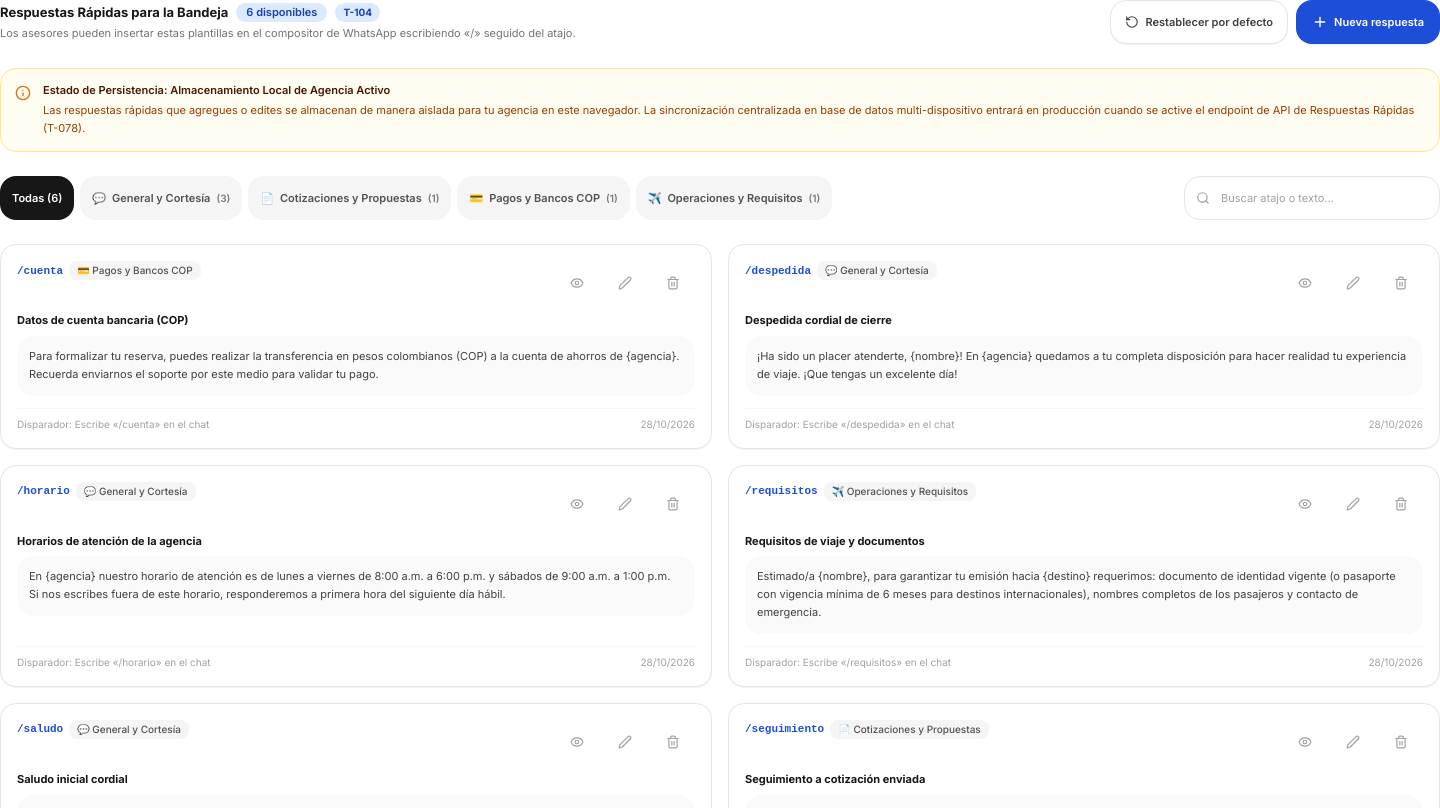
Test case: BloqueRespuestasRapidas — Administración por Agencia (T-104) › 6. Abre modal de creación, agrega variable con botón y guarda una nueva respuesta
Click the button "Nueva respuesta" at (1368, 22), box [1296,0,1439,44]
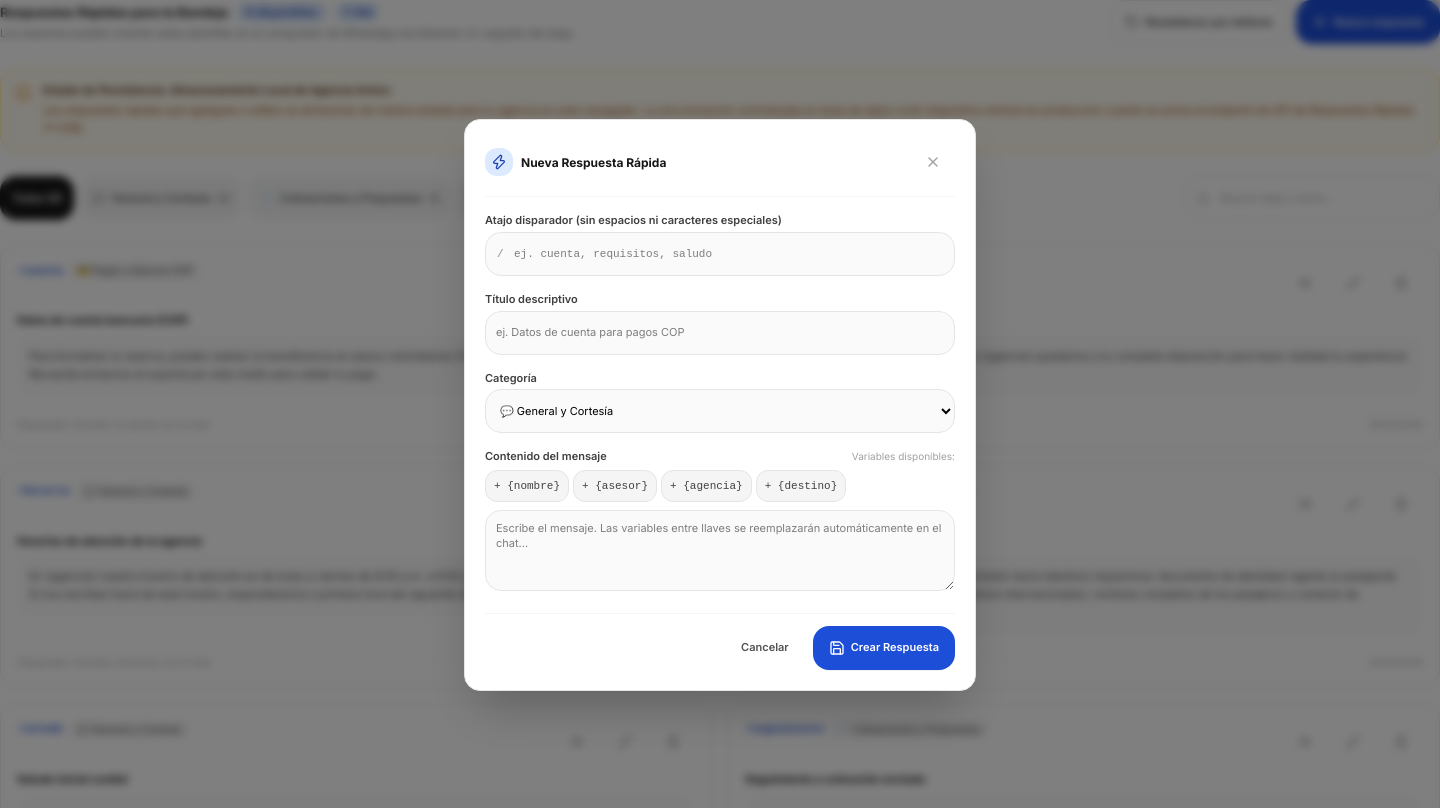
Now the heading "Nueva Respuesta Rápida" is shown, box [521,154,666,171]
Type "bienvenida" into the field with placeholder "ej. cuenta, requisitos, saludo" at (720, 254), box [485,232,955,276]
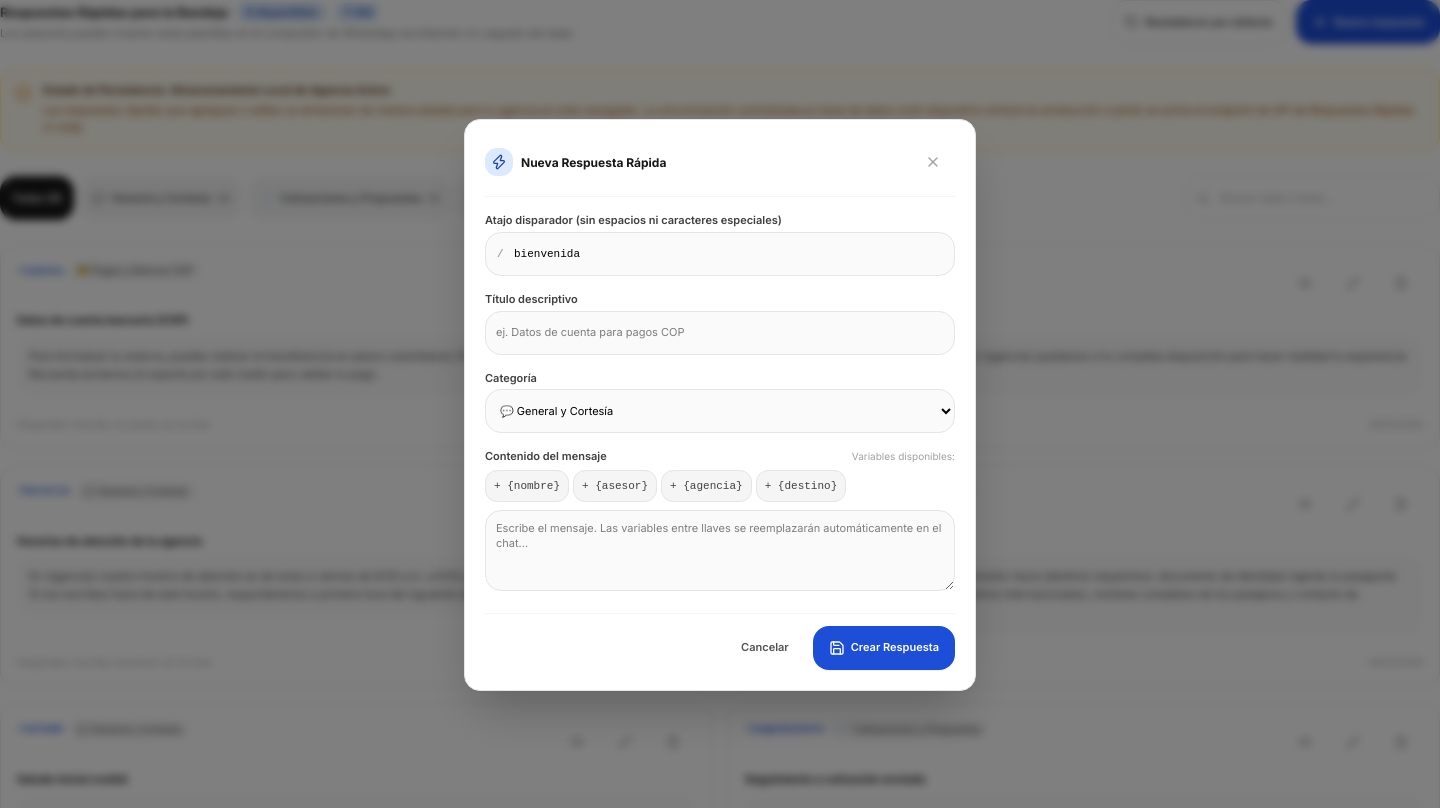
Type "Mensaje de Bienvenida" into the field with placeholder "ej. Datos de cuenta para pagos COP" at (720, 332), box [485,310,955,354]
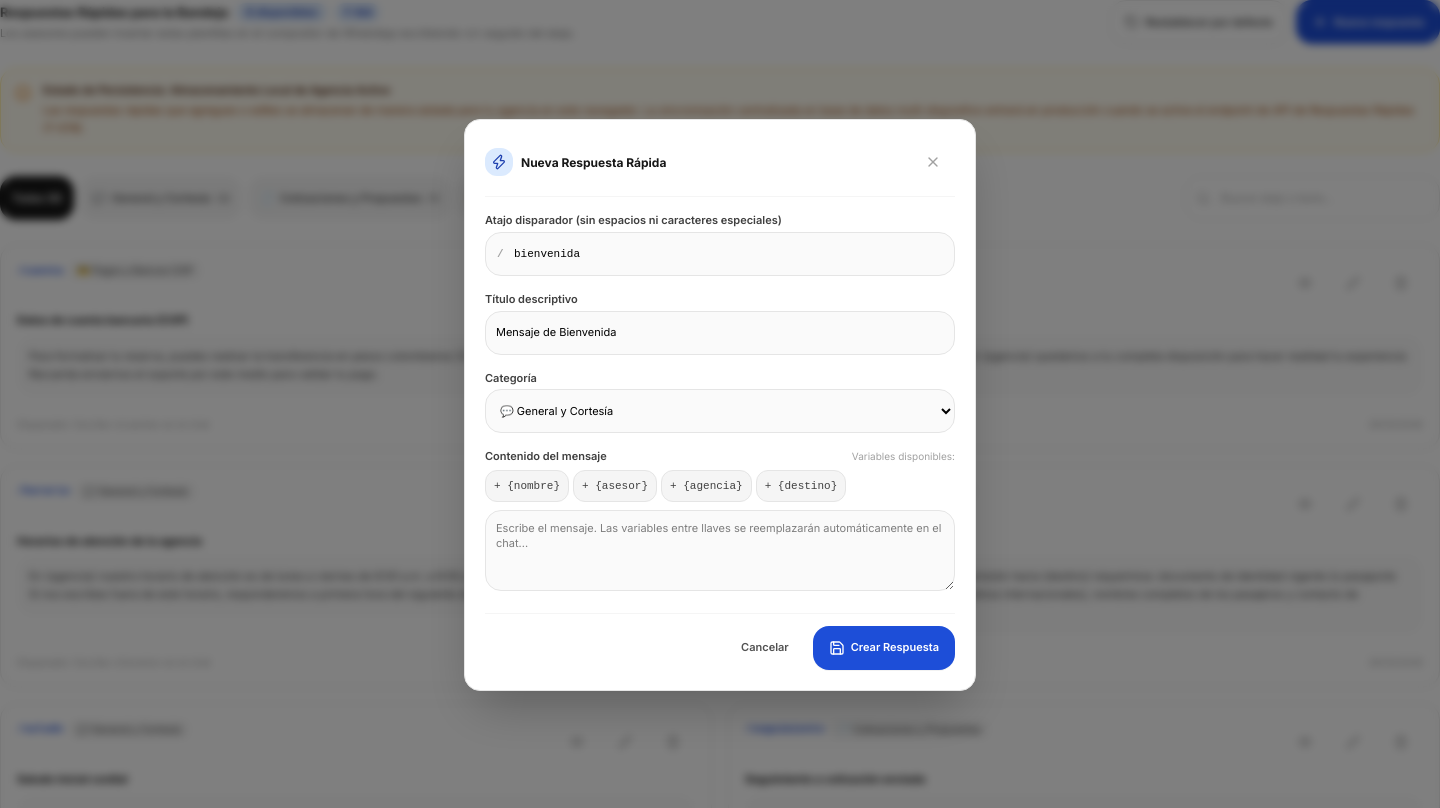
Replace the text in the text box with placeholder "Escribe el mensaje" with "Hola viajero" at (720, 550), box [485,510,955,591]
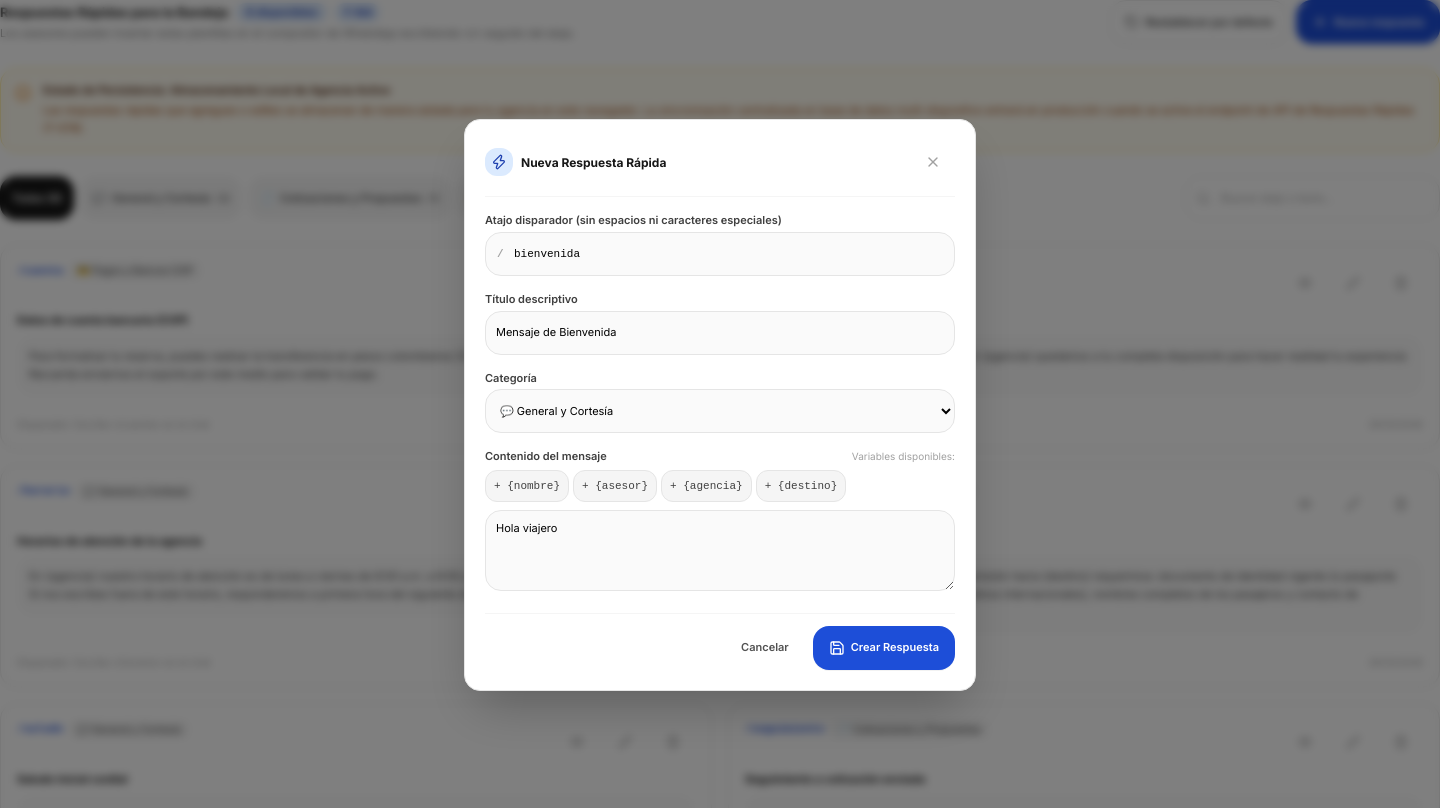
Click the button "+ {nombre}" at (527, 486), box [485,470,569,502]
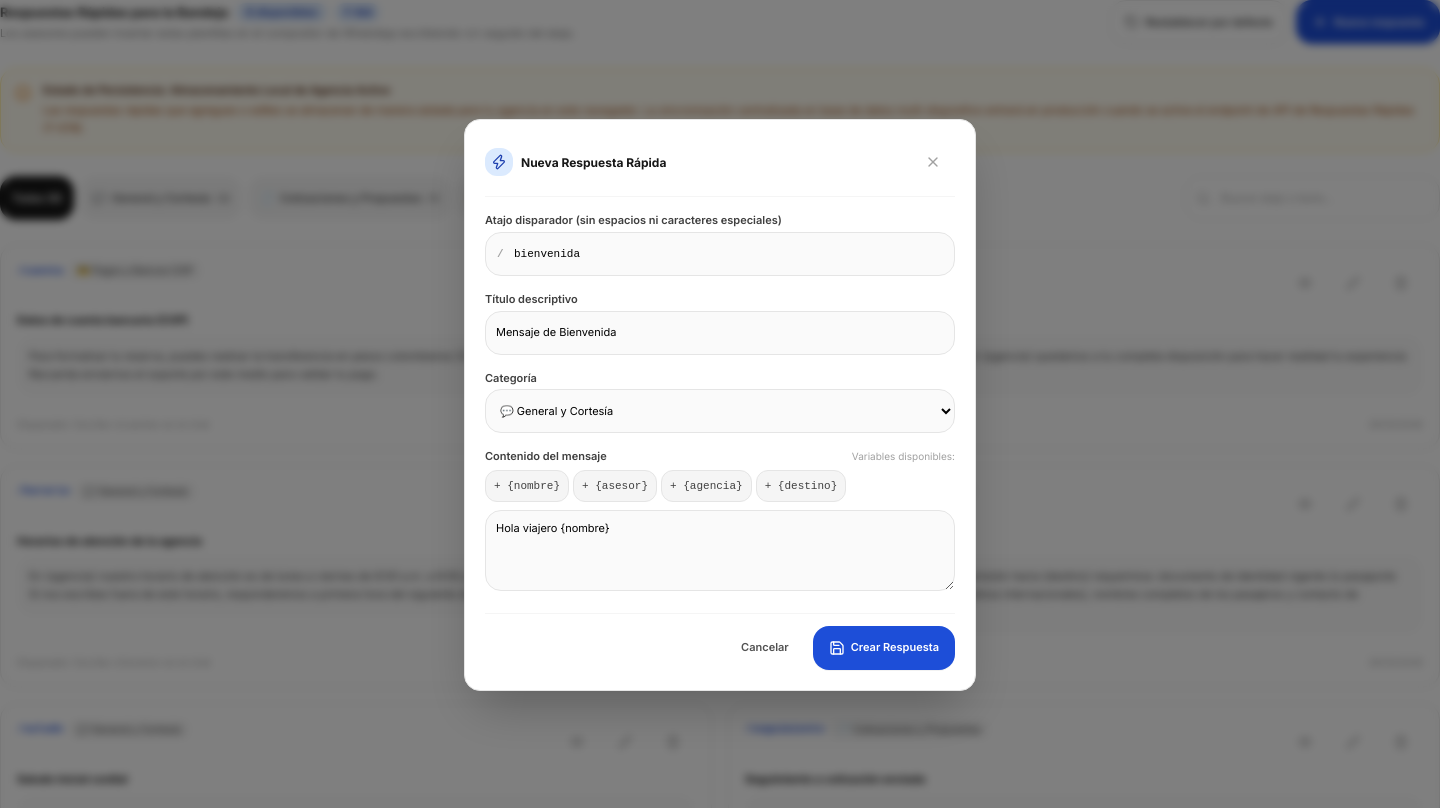
Note: Enviar formulario
Click the button "Crear Respuesta" at (884, 648), box [813,626,955,670]
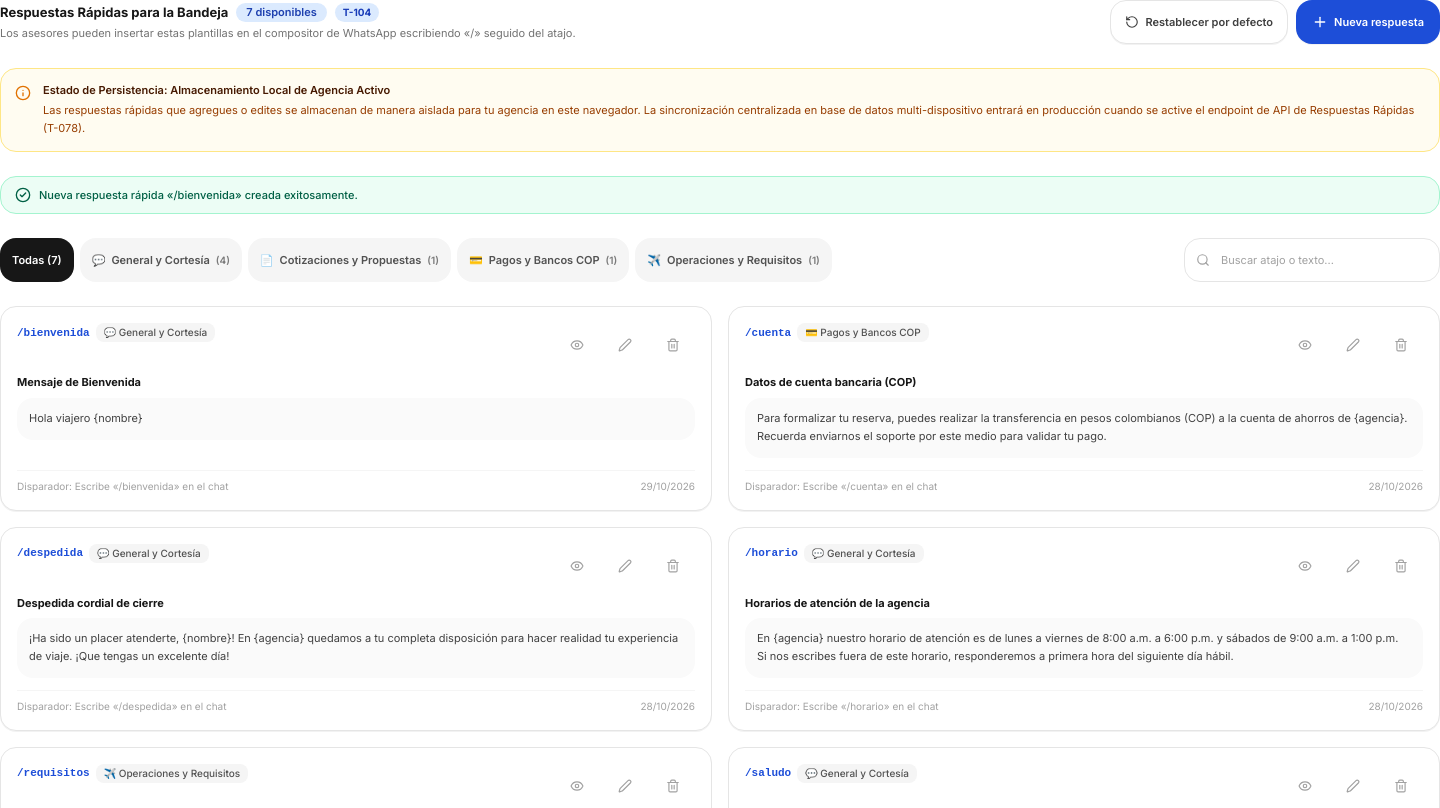
Now the text "/bienvenida" is shown, box [17,326,90,340]
Now the heading "Mensaje de Bienvenida" is shown, box [17,375,141,389]
